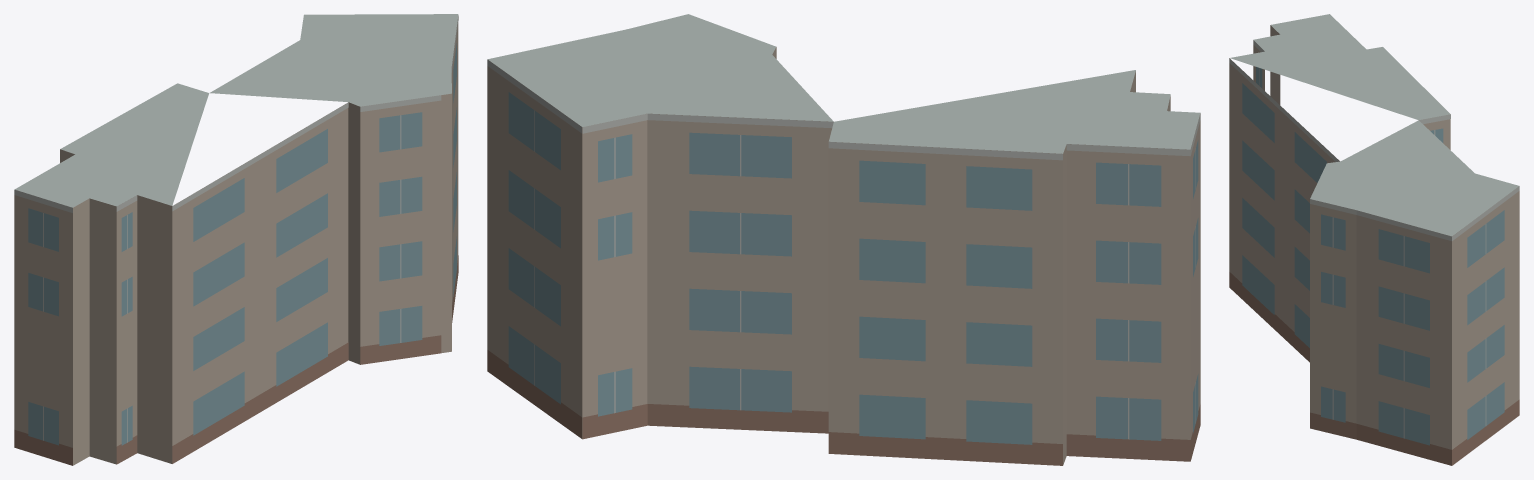
The model's file is survey-upis-32487303.glb.
The picture shows the model from 3 angles, left to right: view 1: azimuth 30°, elevation 25°; view 2: azimuth 150°, elevation 25°; view 3: azimuth 270°, elevation 25°; orthographic projection. The views are drawn at different scales.
Visible parts, largest first — view 1: survey-upis-32487303.tmp; view 2: survey-upis-32487303.tmp; view 3: survey-upis-32487303.tmp.
Part boxes in pixels (x1,y1,x2,y2): survey-upis-32487303.tmp: (14,14,458,465); survey-upis-32487303.tmp: (487,14,1200,465); survey-upis-32487303.tmp: (1229,14,1519,465).
Bounding box in the file's own units: 24.13 × 11.6 × 13.3.
